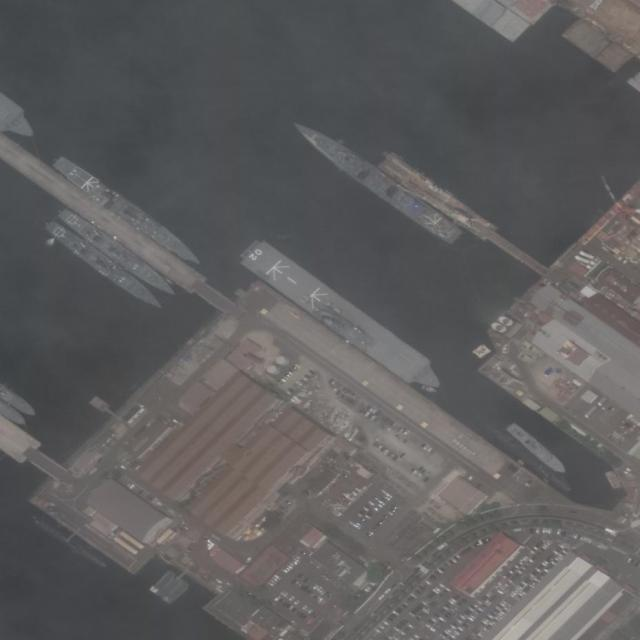Destroyer: (283, 110, 469, 249), (52, 151, 204, 270), (57, 203, 181, 301), (42, 217, 167, 314)
Dock: (378, 151, 549, 281)
Landing: (239, 236, 449, 400)
Submarine: (489, 427, 570, 495), (32, 515, 107, 568)
